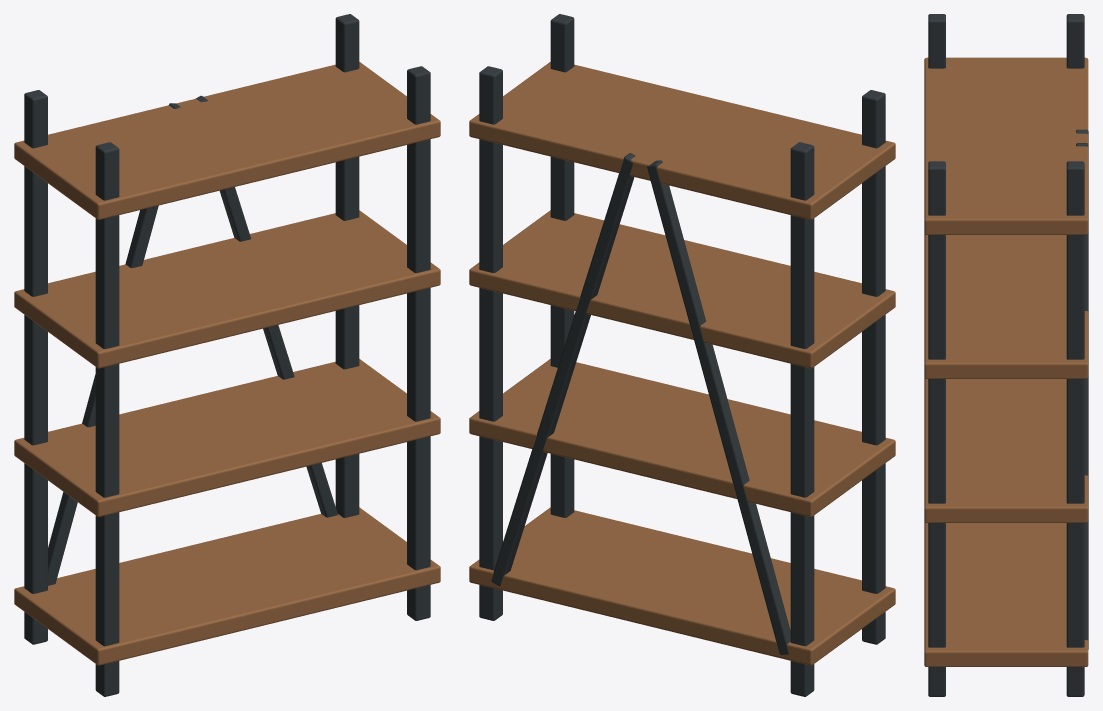
Rendered from open-frame-shelf-01.glb.
3 views of the same model, side by side, from view 1: azimuth 30°, elevation 25°; view 2: azimuth 150°, elevation 25°; view 3: azimuth 270°, elevation 25° (orthographic). The views are drawn at different scales.
Visible parts, largest first — view 1: open-frame-shelf-01; view 2: open-frame-shelf-01; view 3: open-frame-shelf-01.
Part boxes in pixels (<box>): open-frame-shelf-01: <box>14,14,440,696</box>; open-frame-shelf-01: <box>469,14,895,696</box>; open-frame-shelf-01: <box>924,14,1088,696</box>.
Bounding box in the file's own units: 0.75 × 1.14 × 0.3205.
